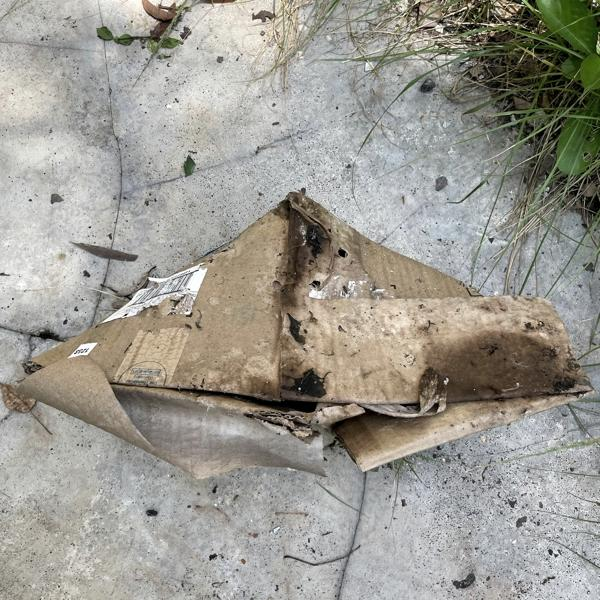Organik: (17, 183, 590, 515)
